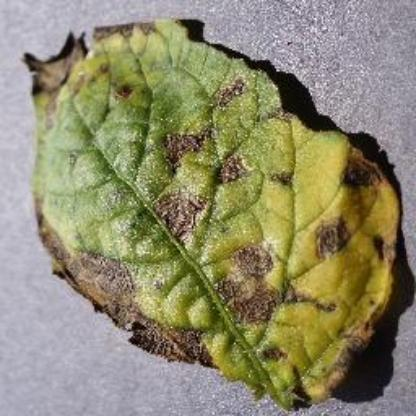Early-Blight: (18, 15, 406, 406)
